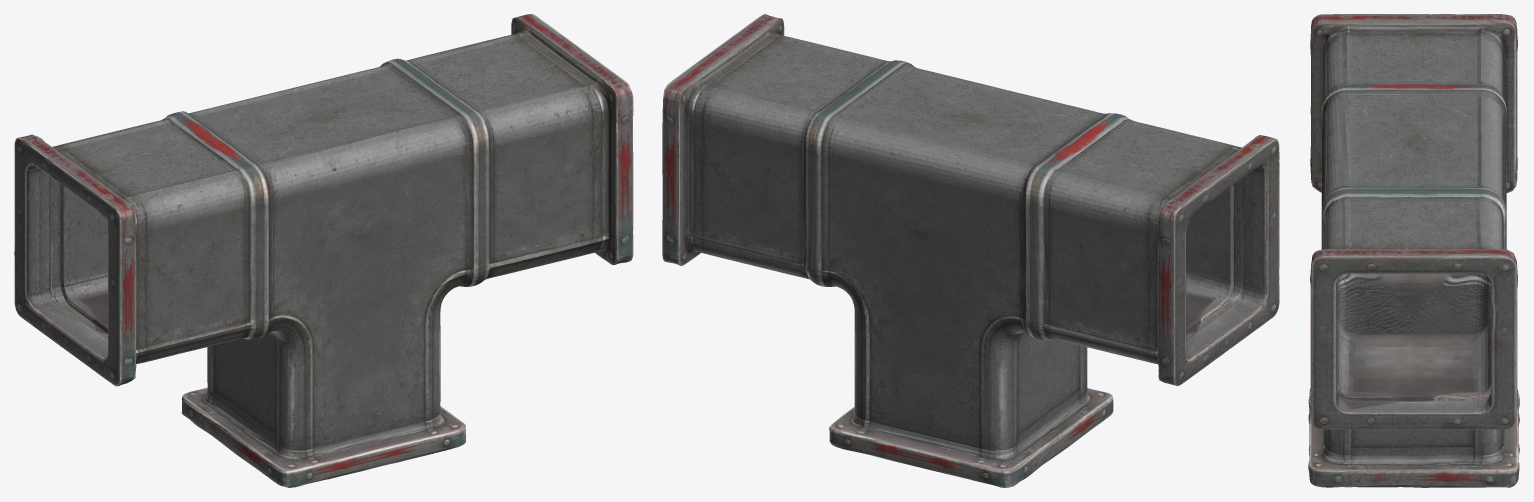
The model's file is Meshy_AI_Weathered_Ductwork_0623181152_texture.fbx.
3 views of the same model, side by side, from view 1: azimuth 30°, elevation 25°; view 2: azimuth 150°, elevation 25°; view 3: azimuth 270°, elevation 25° (orthographic). The views are drawn at different scales.
Visible parts, largest first — view 1: temp; view 2: temp; view 3: temp.
Boxes of the visible parts, x1=… form: temp: x1=14, y1=14, x2=633, y2=487; temp: x1=662, y1=14, x2=1279, y2=487; temp: x1=1308, y1=14, x2=1519, y2=487.
Size of the model in its own units: 190 by 113 by 69.58.
Materials: 1 (1 with a texture image).
